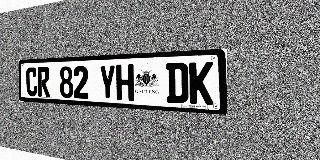2: (73, 66, 88, 99)
8: (59, 66, 73, 98)
C: (26, 67, 38, 96)
D: (166, 62, 188, 104)
H: (116, 64, 134, 101)
K: (189, 62, 213, 105)
R: (37, 67, 50, 97)
Y: (99, 65, 116, 100)
